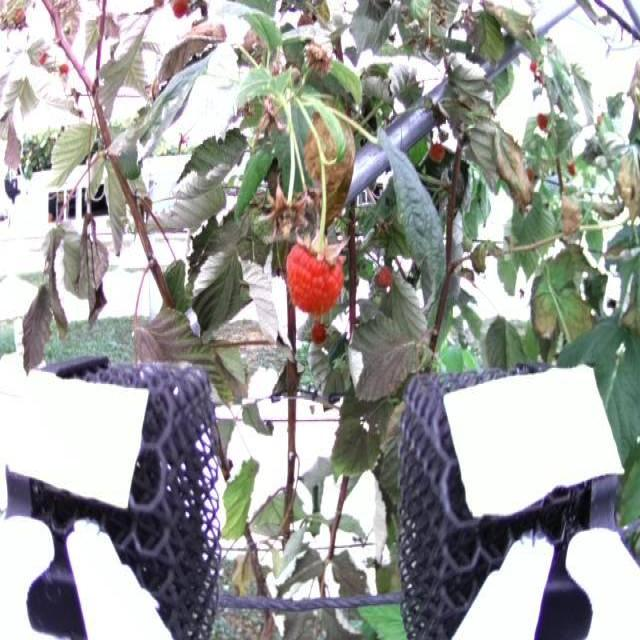Riped berries: (284, 232, 346, 318), (306, 320, 334, 351)
